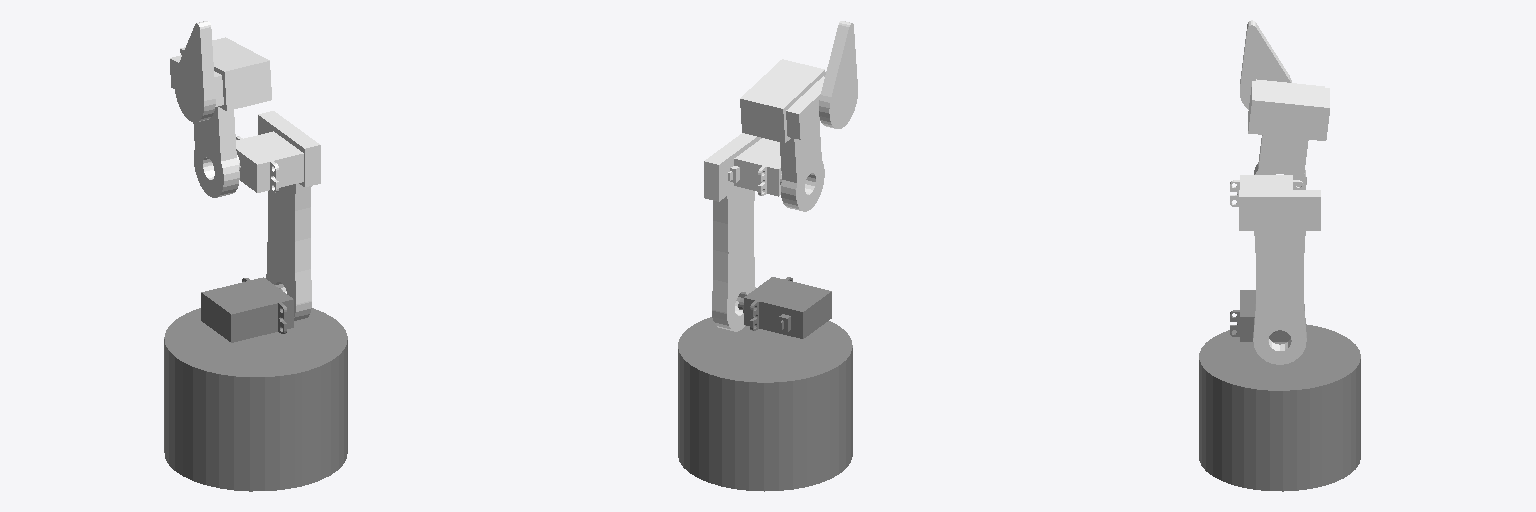
The robot description file, URDF, robot "arm":
<?xml version="1.0" encoding="utf-8"?>
<!-- This URDF was automatically created by SolidWorks to URDF Exporter! Originally created by Stephen Brawner (brawner@gmail.com) 
     Commit Version: 1.6.0-4-g7f85cfe  Build Version: 1.6.7995.38578
     For more information, please see http://wiki.ros.org/sw_urdf_exporter -->
<robot
  name="arm">
  <link
    name="base_link">
    <inertial>
      <origin
        xyz="5.13312732192816E-24 2.98225536792769E-18 0.012"
        rpy="0 0 0" />
      <mass
        value="0.023090706003885" />
      <inertia
        ixx="2.87623606660892E-06"
        ixy="1.41059322098675E-37"
        ixz="2.82120223810858E-28"
        iyy="2.87623606660893E-06"
        iyz="1.14794370197489E-38"
        izz="3.53576435684489E-06" />
    </inertial>
    <visual>
      <origin
        xyz="0 0 0"
        rpy="0 0 0" />
      <geometry>
        <mesh
          filename="package://arm/meshes/base_link.STL" />
      </geometry>
      <material
        name="">
        <color
          rgba="0.627450980392157 0.627450980392157 0.627450980392157 1" />
      </material>
    </visual>
    <collision>
      <origin
        xyz="0 0 0"
        rpy="0 0 0" />
      <geometry>
        <mesh
          filename="package://arm/meshes/base_link.STL" />
      </geometry>
    </collision>
  </link>
  <link
    name="link1">
    <inertial>
      <origin
        xyz="-0.0027816844022008 0.00338125927703351 0.008"
        rpy="0 0 0" />
      <mass
        value="0.000988216541243044" />
      <inertia
        ixx="1.90823126970333E-08"
        ixy="1.38506359525948E-10"
        ixz="8.19156806945474E-25"
        iyy="1.45517296276645E-08"
        iyz="3.18460387833784E-25"
        izz="2.78202342494956E-08" />
    </inertial>
    <visual>
      <origin
        xyz="0 0 0"
        rpy="0 0 0" />
      <geometry>
        <mesh
          filename="package://arm/meshes/link1.STL" />
      </geometry>
      <material
        name="">
        <color
          rgba="0.627450980392157 0.627450980392157 0.627450980392157 1" />
      </material>
    </visual>
    <collision>
      <origin
        xyz="0 0 0"
        rpy="0 0 0" />
      <geometry>
        <mesh
          filename="package://arm/meshes/link1.STL" />
      </geometry>
    </collision>
  </link>
  <joint
    name="joint1"
    type="revolute">
    <origin
      xyz="0 0 0.024"
      rpy="0 0 1.5708" />
    <parent
      link="base_link" />
    <child
      link="link1" />
    <axis
      xyz="0 0 -1" />
    <limit
      lower="-3.14"
      upper="3.14"
      effort="10"
      velocity="3" />
  </joint>
  <link
    name="link2">
    <inertial>
      <origin
        xyz="-0.000877000214864543 0.0214121325210412 -0.00397779628631471"
        rpy="0 0 0" />
      <mass
        value="0.00233780679878476" />
      <inertia
        ixx="1.8455216571155E-07"
        ixy="-1.05958317402517E-08"
        ixz="1.38506359525958E-10"
        iyy="4.82744767416521E-08"
        iyz="-8.75660568859961E-23"
        izz="1.97720411691857E-07" />
    </inertial>
    <visual>
      <origin
        xyz="0 0 0"
        rpy="0 0 0" />
      <geometry>
        <mesh
          filename="package://arm/meshes/link2.STL" />
      </geometry>
      <material
        name="">
        <color
          rgba="1 1 1 1" />
      </material>
    </visual>
    <collision>
      <origin
        xyz="0 0 0"
        rpy="0 0 0" />
      <geometry>
        <mesh
          filename="package://arm/meshes/link2.STL" />
      </geometry>
    </collision>
  </link>
  <joint
    name="joint2"
    type="revolute">
    <origin
      xyz="0 -0.0090485 0.008"
      rpy="1.5708 0 0" />
    <parent
      link="link1" />
    <child
      link="link2" />
    <axis
      xyz="0 0 -1" />
    <limit
      lower="-3.14"
      upper="3.14"
      effort="10"
      velocity="3" />
  </joint>
  <link
    name="link3">
    <inertial>
      <origin
        xyz="-0.00150341472148203 0.0143292563880445 -0.00316059563598266"
        rpy="0 0 0" />
      <mass
        value="0.0023031669438909" />
      <inertia
        ixx="1.32938896258025E-07"
        ixy="6.04181633782314E-09"
        ixz="-3.08851189449812E-09"
        iyy="7.20863623608677E-08"
        iyz="1.13982053665467E-08"
        izz="1.51665716979718E-07" />
    </inertial>
    <visual>
      <origin
        xyz="0 0 0"
        rpy="0 0 0" />
      <geometry>
        <mesh
          filename="package://arm/meshes/link3.STL" />
      </geometry>
      <material
        name="">
        <color
          rgba="1 1 1 1" />
      </material>
    </visual>
    <collision>
      <origin
        xyz="0 0 0"
        rpy="0 0 0" />
      <geometry>
        <mesh
          filename="package://arm/meshes/link3.STL" />
      </geometry>
    </collision>
  </link>
  <joint
    name="joint3"
    type="revolute">
    <origin
      xyz="0 0.030167 -0.01945"
      rpy="-3.1416 0 3.1416" />
    <parent
      link="link2" />
    <child
      link="link3" />
    <axis
      xyz="0 0 -1" />
    <limit
      lower="-3.14"
      upper="3.14"
      effort="10"
      velocity="3" />
  </joint>
  <link
    name="link4">
    <inertial>
      <origin
        xyz="0.000664457063794661 0.00321500697518318 -0.00125"
        rpy="0 0 0" />
      <mass
        value="0.00040369422160084" />
      <inertia
        ixx="1.11604754637072E-08"
        ixy="-1.69559702950831E-09"
        ixz="2.1307410154117E-25"
        iyy="3.30668406576112E-09"
        iyz="1.35689523965486E-24"
        izz="1.40466447153008E-08" />
    </inertial>
    <visual>
      <origin
        xyz="0 0 0"
        rpy="0 0 0" />
      <geometry>
        <mesh
          filename="package://arm/meshes/link4.STL" />
      </geometry>
      <material
        name="">
        <color
          rgba="1 1 1 1" />
      </material>
    </visual>
    <collision>
      <origin
        xyz="0 0 0"
        rpy="0 0 0" />
      <geometry>
        <mesh
          filename="package://arm/meshes/link4.STL" />
      </geometry>
    </collision>
  </link>
  <joint
    name="joint4"
    type="revolute">
    <origin
      xyz="0.002964 0.018445 0.006"
      rpy="0 0 0" />
    <parent
      link="link3" />
    <child
      link="link4" />
    <axis
      xyz="0 0 1" />
    <limit
      lower="-3.14"
      upper="3.14"
      effort="10"
      velocity="3" />
  </joint>
</robot>

--- What the picture shows (computed from the rendered views, not written in the file) ---
Views: 3 orthographic renders of the robot side by side, from view 1: azimuth 30°, elevation 25°; view 2: azimuth 150°, elevation 25°; view 3: azimuth 270°, elevation 25°.
Model arm with 5 links and 4 joints (4 revolute), rooted at base_link, posed every joint at zero.
Visible links, largest first — view 1: base_link, link2, link3, link1, link4; view 2: base_link, link2, link3, link1, link4; view 3: base_link, link2, link3, link4, link1.
Boxes of the visible links, bbox=[...] form: base_link: bbox=[164, 308, 347, 491]; link2: bbox=[236, 111, 320, 321]; link3: bbox=[170, 37, 271, 197]; link1: bbox=[201, 277, 293, 342]; link4: bbox=[174, 21, 215, 122]; base_link: bbox=[678, 317, 852, 491]; link2: bbox=[704, 133, 781, 331]; link3: bbox=[740, 59, 848, 211]; link1: bbox=[738, 277, 831, 338]; link4: bbox=[819, 21, 857, 128]; base_link: bbox=[1199, 324, 1360, 491]; link2: bbox=[1230, 175, 1320, 364]; link3: bbox=[1248, 79, 1329, 189]; link4: bbox=[1240, 20, 1291, 109]; link1: bbox=[1230, 290, 1290, 341].
Bounding box of the posed robot: 0.035 × 0.035 × 0.0965 m (x, y, z).
Meshes: 5 distinct files referenced, 5 mesh visuals loaded (5 binary STL).
